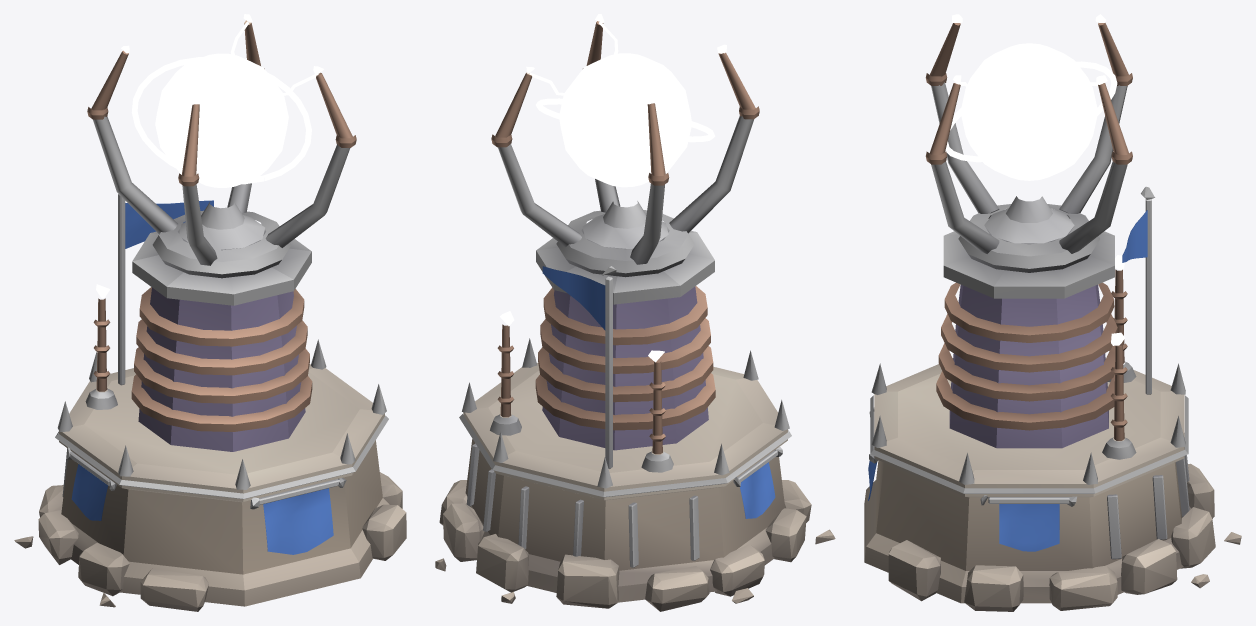
The model's file is spark_2_7.glb.
3 renders of one model, left to right at view 1: azimuth 30°, elevation 25°; view 2: azimuth 150°, elevation 25°; view 3: azimuth 270°, elevation 25°, orthographic. The views are drawn at different scales.
Visible parts, largest first — view 1: Tower, Turret; view 2: Tower, Turret; view 3: Tower, Turret.
Boxes of the visible parts, x1=… form: Tower: x1=14, y1=194, x2=406, y2=611; Turret: x1=87, y1=14, x2=356, y2=278; Tower: x1=435, y1=223, x2=835, y2=611; Turret: x1=491, y1=14, x2=759, y2=277; Tower: x1=864, y1=186, x2=1241, y2=611; Turret: x1=925, y1=14, x2=1132, y2=272.
Size of the model in its own units: 3.56 by 5.08 by 3.51.
